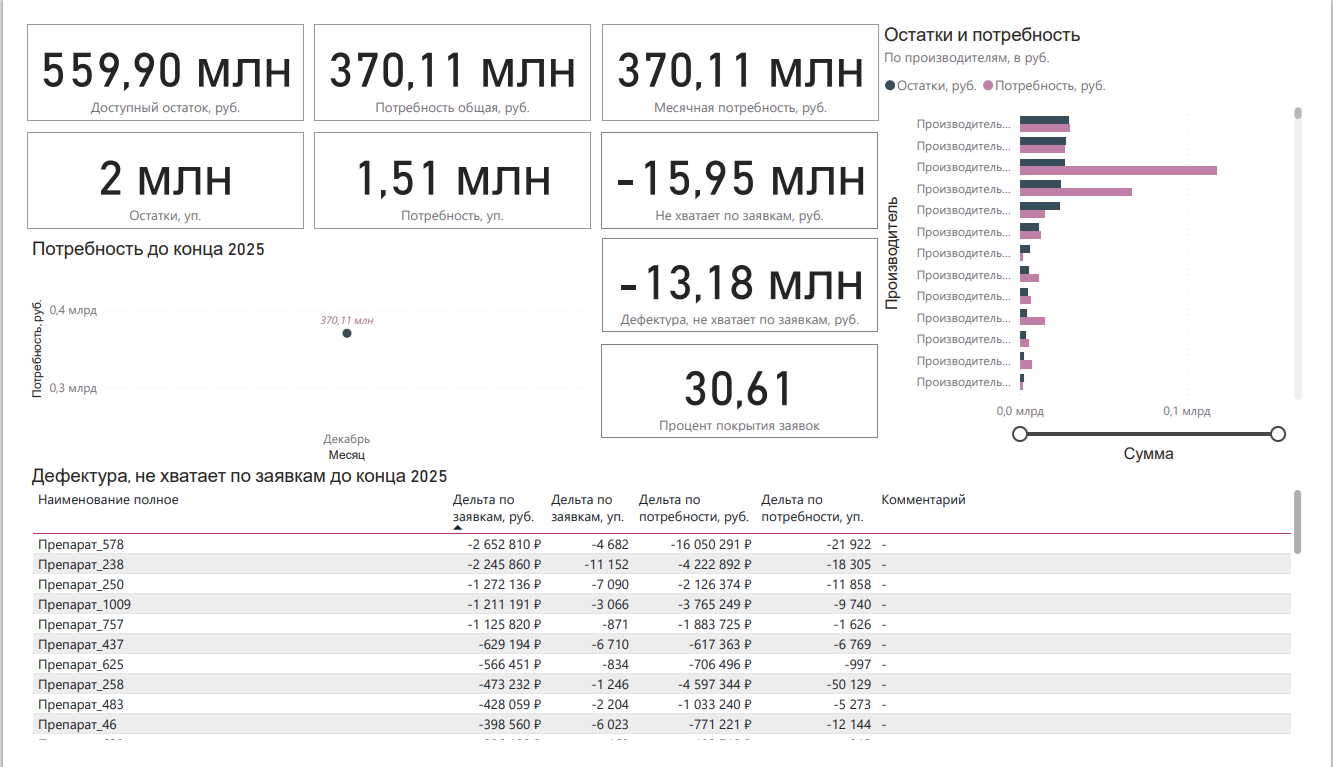

This screenshot's page, from the dashboard's own definition file:
{"tool":"powerbi","page":{"name":"2025","canvas":[1280,720],"ordinal":1},"visuals":[{"type":"lineChart","title":"Потребность до конца 2025","fields":{"Y":["Sum(Данные (2).Потребность, руб.)"],"Category":["Данные (2).Договор до.Изменение.Иерархия дат.Год","Данные (2).Договор до.Изменение.Иерархия дат.Месяц","Данные (2).Договор до.Изменение.Иерархия дат.День"]},"box":[0,213.8,564.9,228],"z":0},{"type":"card","fields":{"Values":["Sum(Данные (2).Потребность, руб.)"]},"box":[287.4,0,277,97.3],"z":1000},{"type":"card","fields":{"Values":["Данные (2).Потребность в месяц"]},"box":[574.9,0,277,97.3],"z":2000},{"type":"card","fields":{"Values":["Sum(Данные (2).Потребность, уп.)"]},"box":[287.4,107.8,277,97.3],"z":3000},{"type":"card","fields":{"Values":["Данные (2).Доступный остаток, руб."]},"box":[0,0,277,97.3],"z":4000},{"type":"card","fields":{"Values":["Sum(Данные (2).Остатки, уп.)"]},"box":[0,107.8,277,97.3],"z":5000},{"type":"clusteredBarChart","title":"Остатки и потребность","fields":{"Category":["Данные (2).Производитель"],"Y":["Sum(Данные (2).Остатки, руб.)","Sum(Данные (2).Потребность, руб.)"]},"box":[851.7,0,428.3,441.7],"z":6000},{"type":"tableEx","title":"Дефектура, не хватает по заявкам до конца 2025","fields":{"Values":["Дельта по годам.Наименование полное","Sum(Дельта по годам.Дельта остатки - заявки, руб.)","Sum(Дельта по годам.Дельта остатки - заявки, уп.)","Sum(Дельта по годам.Дельта остатки - потребность, руб.)","Sum(Дельта по годам.Дельта остатки - потребность, уп.)","Дельта по годам.Комментарий"]},"box":[0,441.1,1280,279.6],"z":7000},{"type":"card","fields":{"Values":["Sum(Дельта по годам.Дельта остатки - заявки, руб.)"]},"box":[574.3,108.2,276.3,96.5],"z":8000},{"type":"card","fields":{"Values":["Sum(Дельта по годам.Дельта остатки - заявки, руб.)"]},"box":[574.6,213.6,276.5,94.4],"z":9000},{"type":"card","fields":{"Values":["Дельта по годам.Процент покрытия заявок"]},"box":[574.4,320,276.7,94.4],"z":10000}]}

Visuals, with their boxes in screenshot pixels (x1, y1, x2, y2), scaled from the page's 1280x720 canvas onto the 1333x767 screenshot:
"Потребность до конца 2025" lineChart: x1=0 y1=228 x2=588 y2=471
card - Sum(Данные (2).Потребность, руб.): x1=299 y1=0 x2=588 y2=104
card - Данные (2).Потребность в месяц: x1=599 y1=0 x2=887 y2=104
card - Sum(Данные (2).Потребность, уп.): x1=299 y1=115 x2=588 y2=218
card - Данные (2).Доступный остаток, руб.: x1=0 y1=0 x2=288 y2=104
card - Sum(Данные (2).Остатки, уп.): x1=0 y1=115 x2=288 y2=218
"Остатки и потребность" clusteredBarChart: x1=887 y1=0 x2=1332 y2=471
"Дефектура, не хватает по заявкам до конца 2025" tableEx: x1=0 y1=470 x2=1332 y2=766
card - Sum(Дельта по годам.Дельта остатки - заявки, руб.): x1=598 y1=115 x2=886 y2=218
card - Sum(Дельта по годам.Дельта остатки - заявки, руб.): x1=598 y1=228 x2=886 y2=328
card - Дельта по годам.Процент покрытия заявок: x1=598 y1=341 x2=886 y2=441
